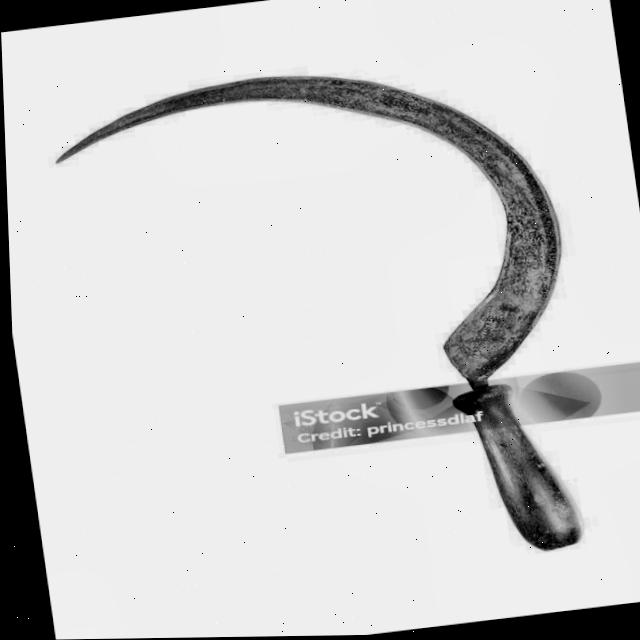celurit: (34, 67, 606, 564)
